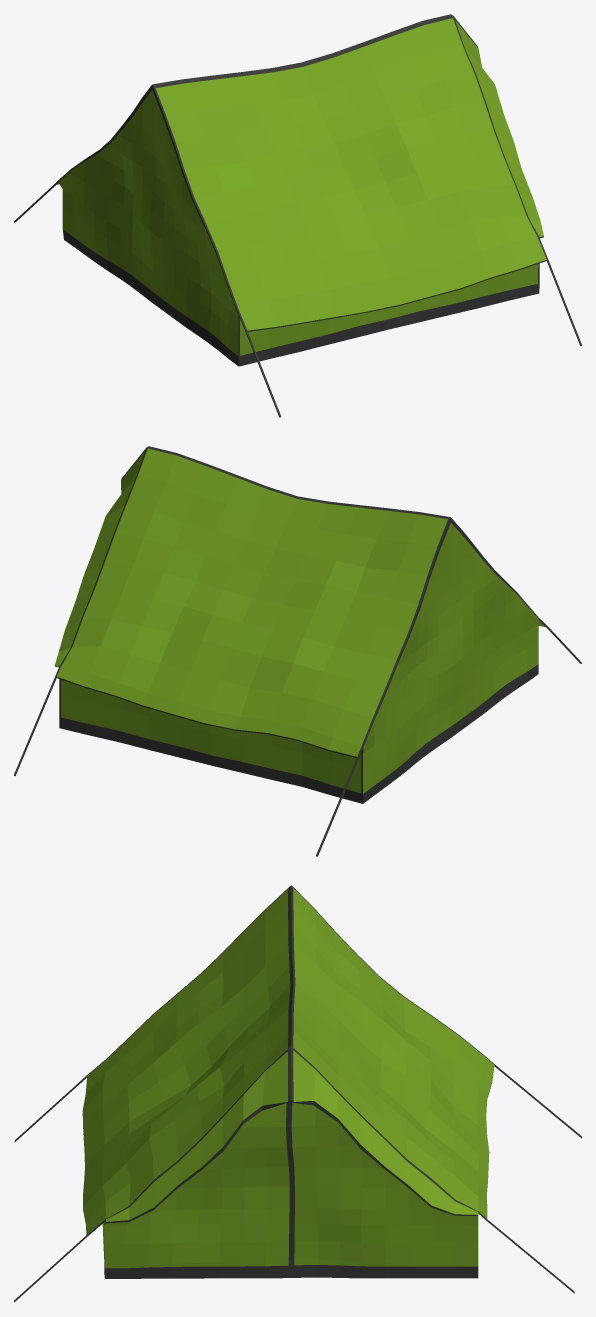
The model's file is tent1.fbx.
The picture shows the model from 3 angles, top to bottom: view 1: azimuth 30°, elevation 25°; view 2: azimuth 150°, elevation 25°; view 3: azimuth 270°, elevation 25°; orthographic projection. The views are drawn at different scales.
Parts seen in each view (by area): view 1: Cube; view 2: Cube; view 3: Cube.
Boxes of the visible parts, <box> form: Cube: <box>14,14,581,417</box>; Cube: <box>14,446,581,856</box>; Cube: <box>14,885,581,1302</box>.
Bounding box in the file's own units: 219 × 153 × 304.
